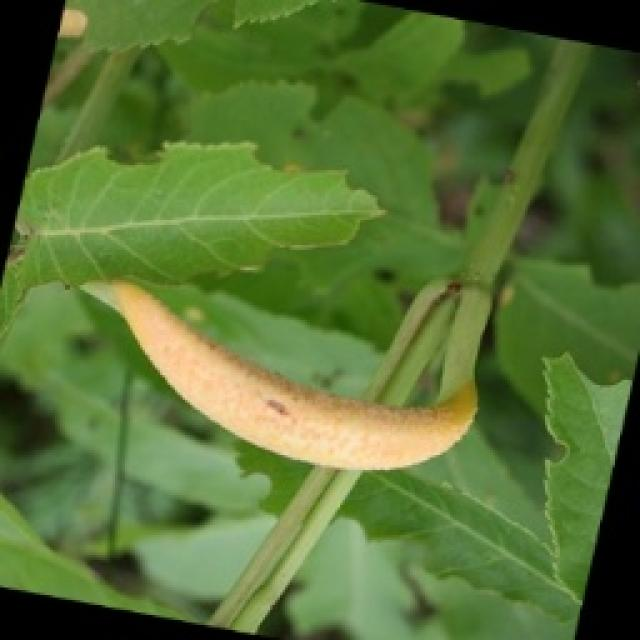Elderberry_rust: (108, 275, 480, 473)
